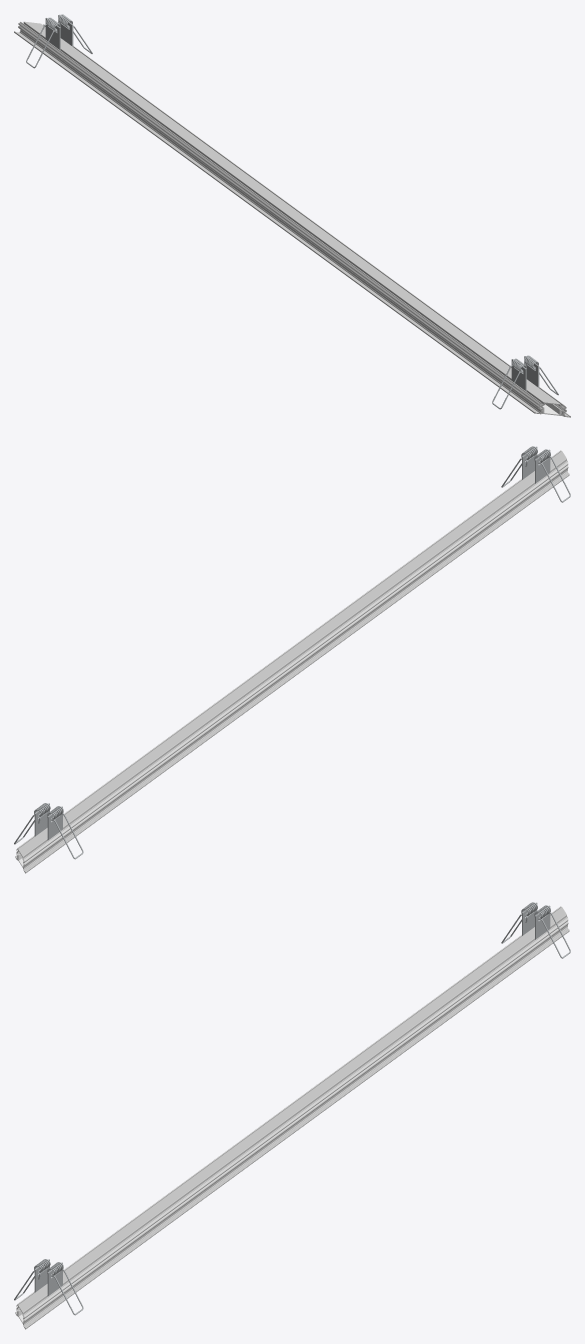
File: Fit15SlimEmbutido-corte-45.glb
3 views of the same model, one above another, from view 1: azimuth 30°, elevation 25°; view 2: azimuth 150°, elevation 25°; view 3: azimuth 330°, elevation 25° (orthographic). The views are drawn at different scales.
Parts seen in each view (by area): view 1: 3DGeom-1; view 2: 3DGeom-1; view 3: 3DGeom-1.
Part boxes in pixels (x1=…): 3DGeom-1: x1=14, y1=21, x2=570, y2=417; 3DGeom-1: x1=15, y1=450, x2=569, y2=873; 3DGeom-1: x1=15, y1=906, x2=569, y2=1329.
Bounding box in the file's own units: 0.0633 × 0.0405 × 0.99.
Materials: 3 (1 with a texture image).
